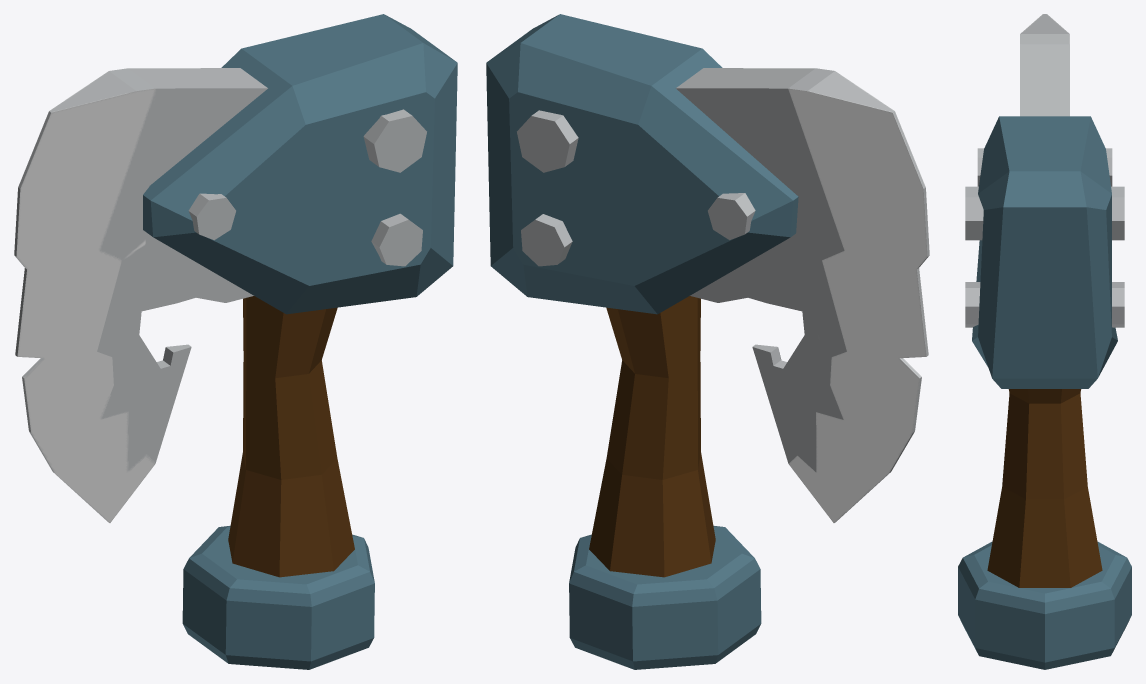
Rendered from Axe.fbx.
3 views of the same model, side by side, from view 1: azimuth 30°, elevation 25°; view 2: azimuth 150°, elevation 25°; view 3: azimuth 270°, elevation 25° (orthographic). The views are drawn at different scales.
Parts seen in each view (by area): view 1: Axe.001; view 2: Axe.001; view 3: Axe.001.
Boxes of the visible parts, x1,y1,x2,y2 form: Axe.001: (14, 14, 457, 669); Axe.001: (486, 14, 929, 669); Axe.001: (958, 14, 1131, 669).
Bounding box in the file's own units: 0.7797 × 1.06 × 0.312.
